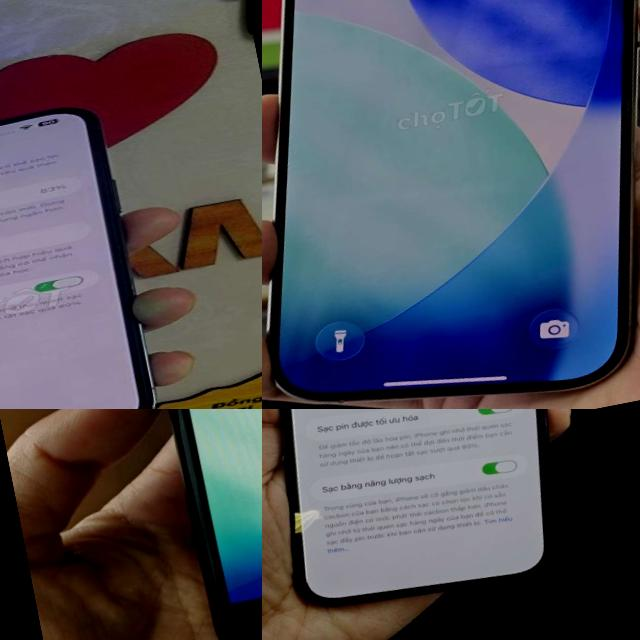gen_12_13: (262, 409, 607, 623), (0, 83, 208, 409)
gen_16: (268, 0, 637, 400)
scratch: (99, 409, 262, 640)
